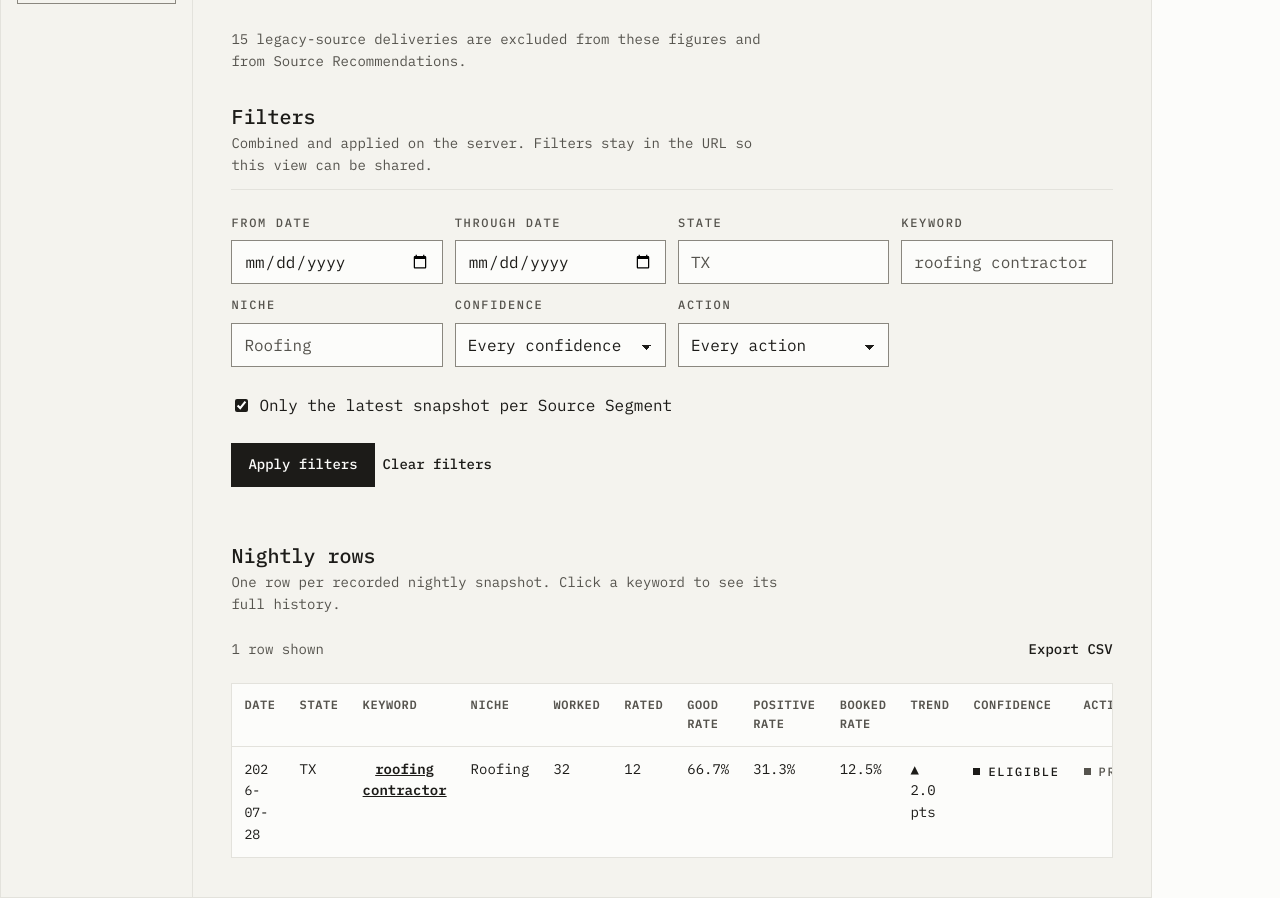
Scenario: the Source Performance workspace › opens a history dialog for a keyword, not an alert
The width and height of the screenshot is (1280, 898).
(page scrolled)
Step 1. Click the button "roofing contractor" → coordinates (405, 780), box left=363, top=759, right=447, bottom=802
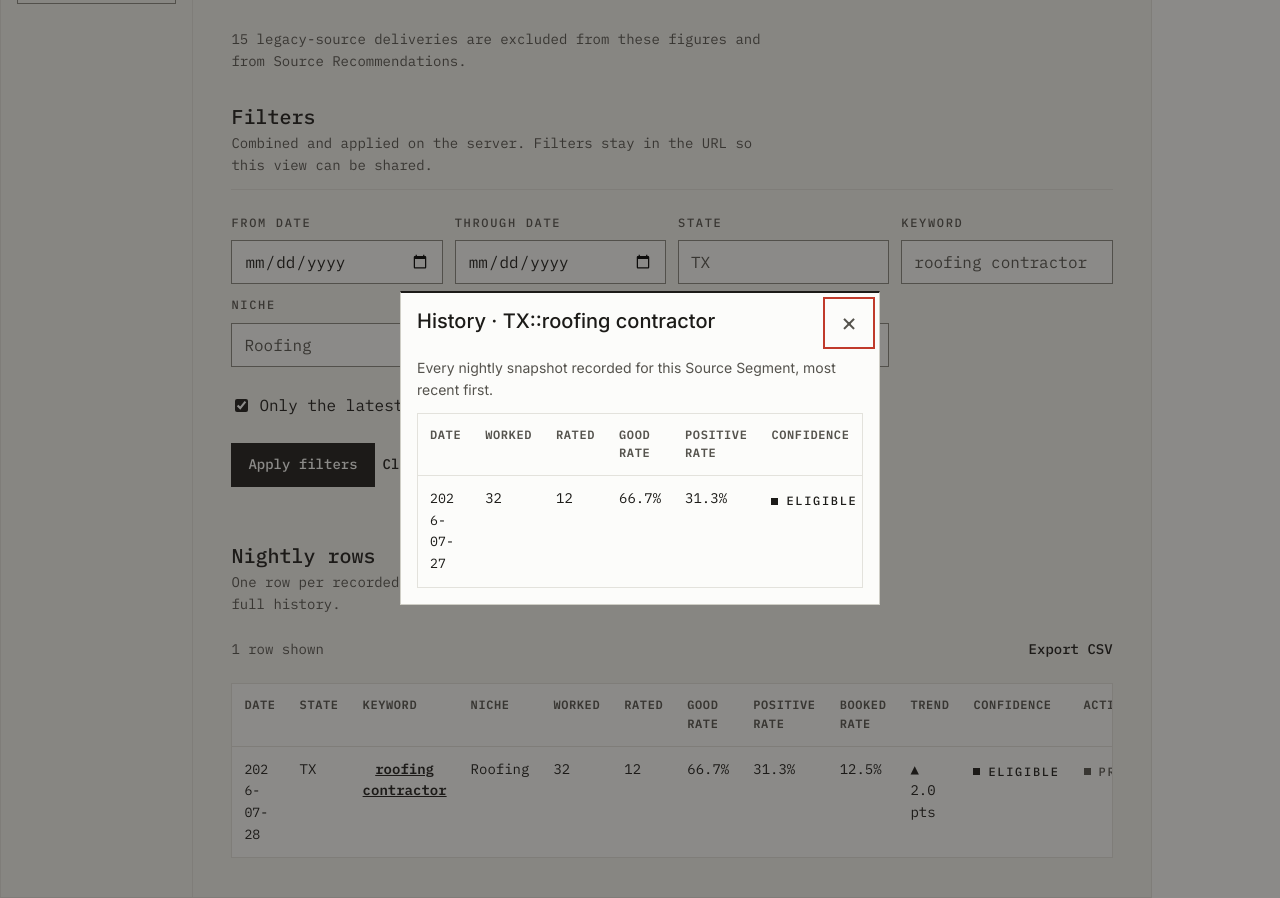
Expected: the text "2026-07-27" is shown, left=430, top=489, right=454, bottom=572
